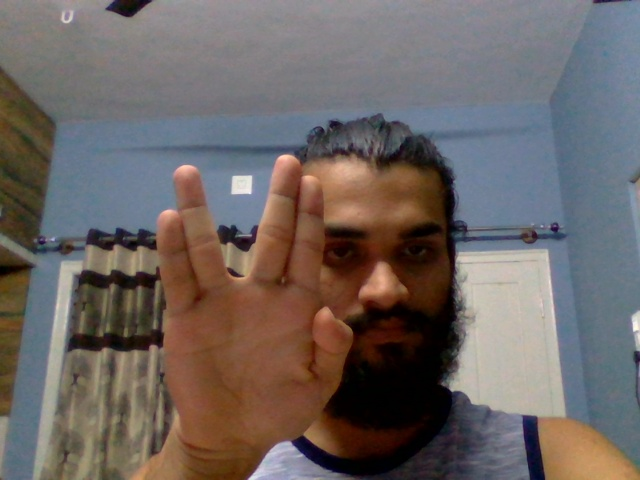LiveLong: (155, 153, 355, 456)
